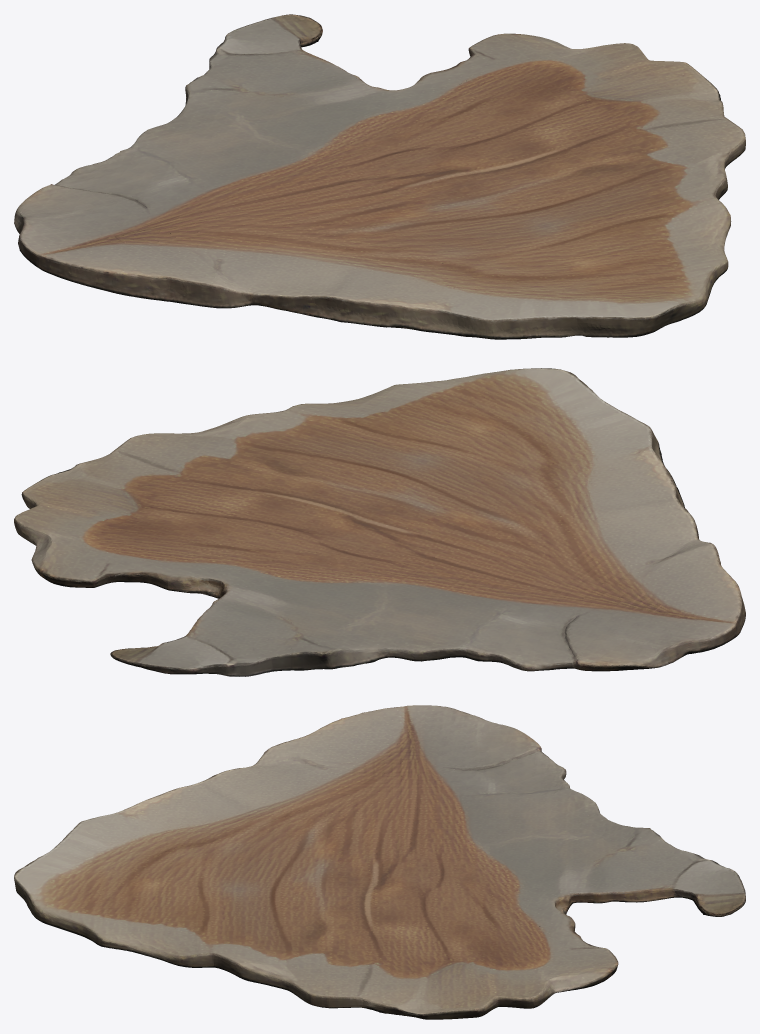
3 renders of one model, top to bottom at view 1: azimuth 30°, elevation 25°; view 2: azimuth 150°, elevation 25°; view 3: azimuth 270°, elevation 25°, orthographic. The views are drawn at different scales.
Parts seen in each view (by area): view 1: world; view 2: world; view 3: world.
Boxes of the visible parts, x1,y1,x2,y2 form: world: (14, 14, 745, 339); world: (14, 368, 745, 676); world: (14, 705, 745, 1019).
Size of the model in its own units: 0.9662 by 0.0284 by 0.9901.
1 material, 1 textured.
